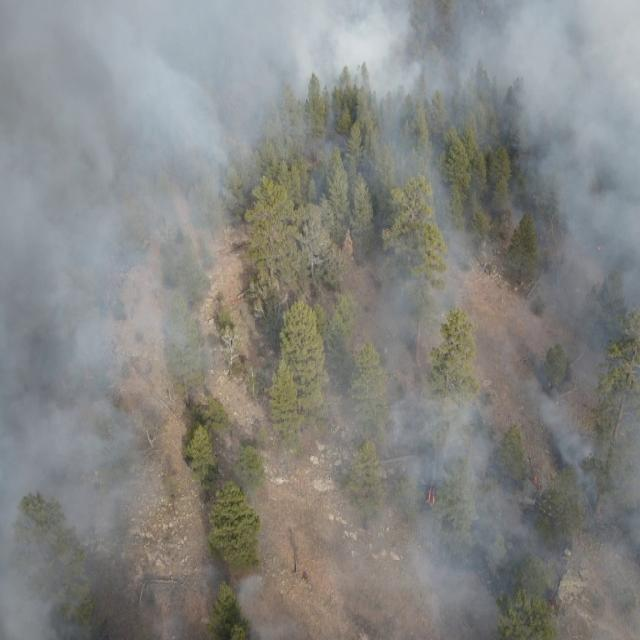fire: (420, 479, 448, 521), (524, 462, 552, 501), (593, 238, 611, 258)
smoke: (275, 251, 640, 640), (0, 0, 213, 640), (213, 2, 640, 246), (210, 390, 278, 640)
